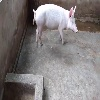heo: (29, 2, 80, 49)
